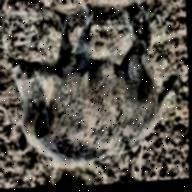boar: (6, 0, 183, 171)
